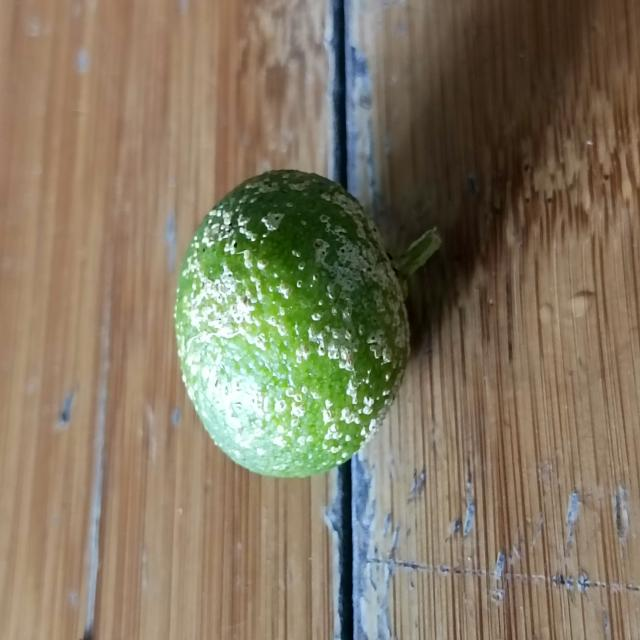scab: (171, 170, 414, 487)
